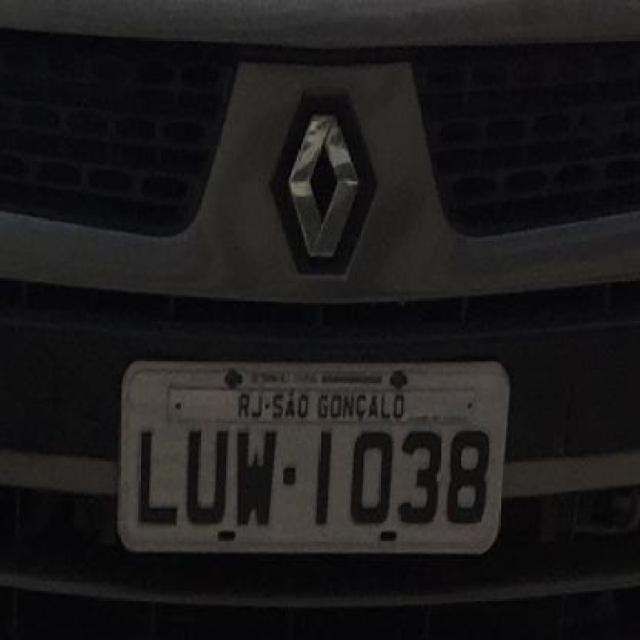old_plate: (110, 346, 519, 565)
